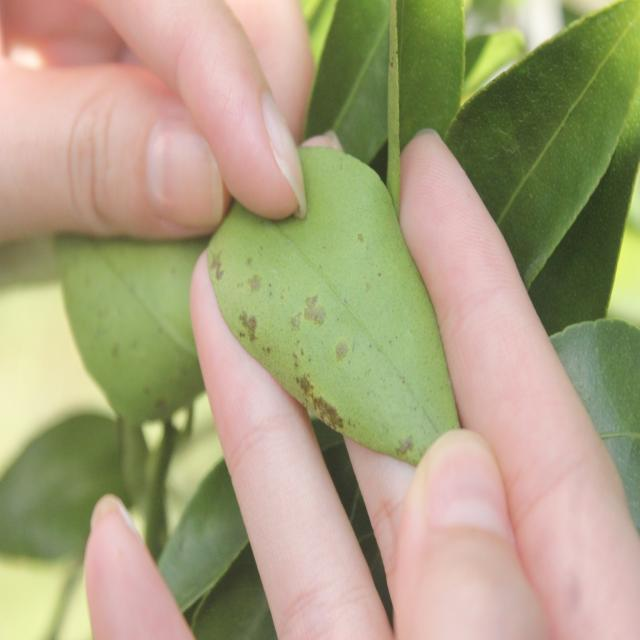melanose: (209, 155, 454, 463)
